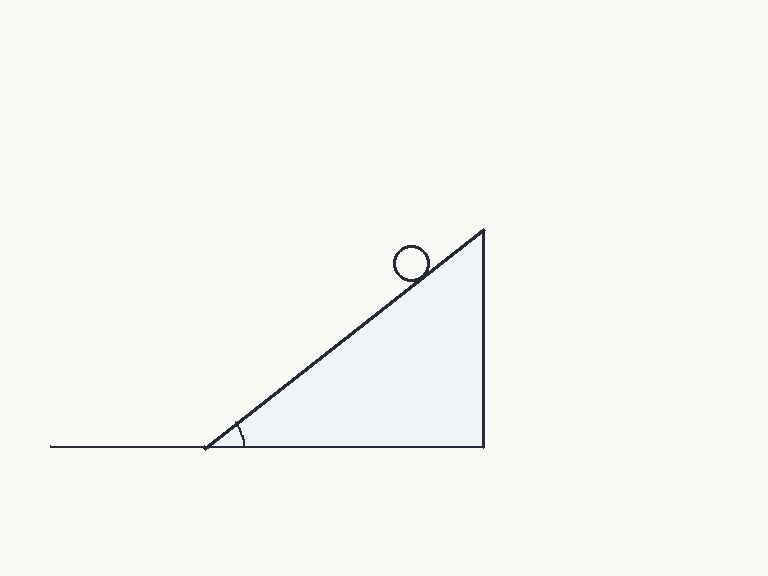ball: (391, 243, 431, 283)
ramp: (202, 226, 486, 449)
